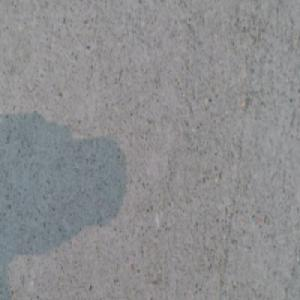Washer: (155, 286, 179, 300)
